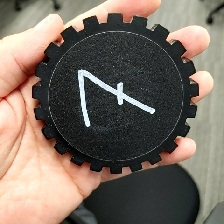gear: (30, 11, 200, 176)
